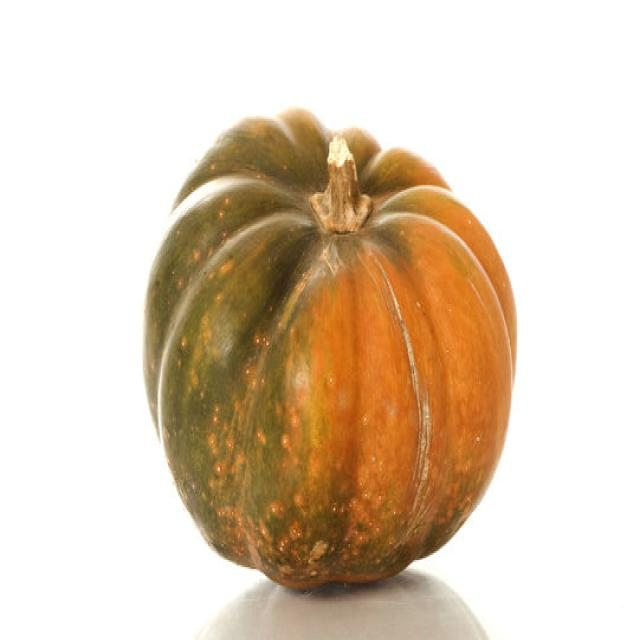Pumpkin: (141, 105, 518, 592)
